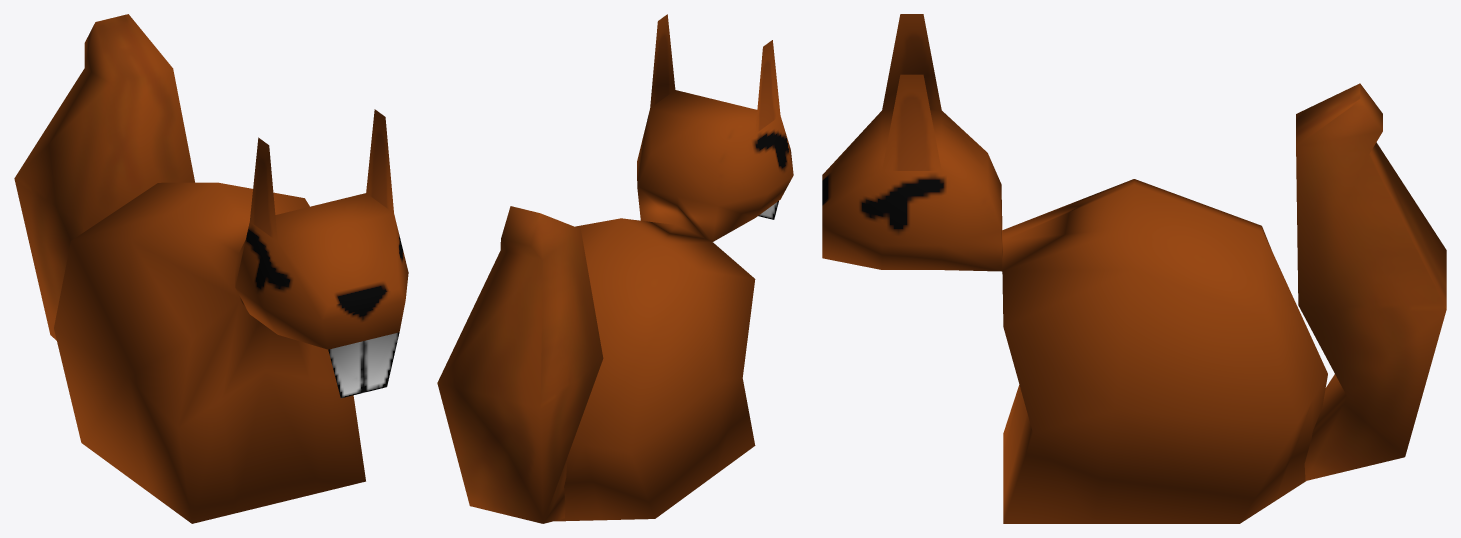
File: squ.glb
The picture shows the model from 3 angles, left to right: view 1: azimuth 30°, elevation 25°; view 2: azimuth 150°, elevation 25°; view 3: azimuth 270°, elevation 25°; orthographic projection. The views are drawn at different scales.
Visible parts, largest first — view 1: Cube.001; view 2: Cube.001; view 3: Cube.001.
Boxes of the visible parts, left/top/right/bottom form: Cube.001: left=14, top=14, right=408, bottom=523; Cube.001: left=437, top=14, right=793, bottom=523; Cube.001: left=822, top=14, right=1446, bottom=523.
Bounding box in the file's own units: 2.72 × 5.35 × 6.97.
Materials: 1 (1 with a texture image).
